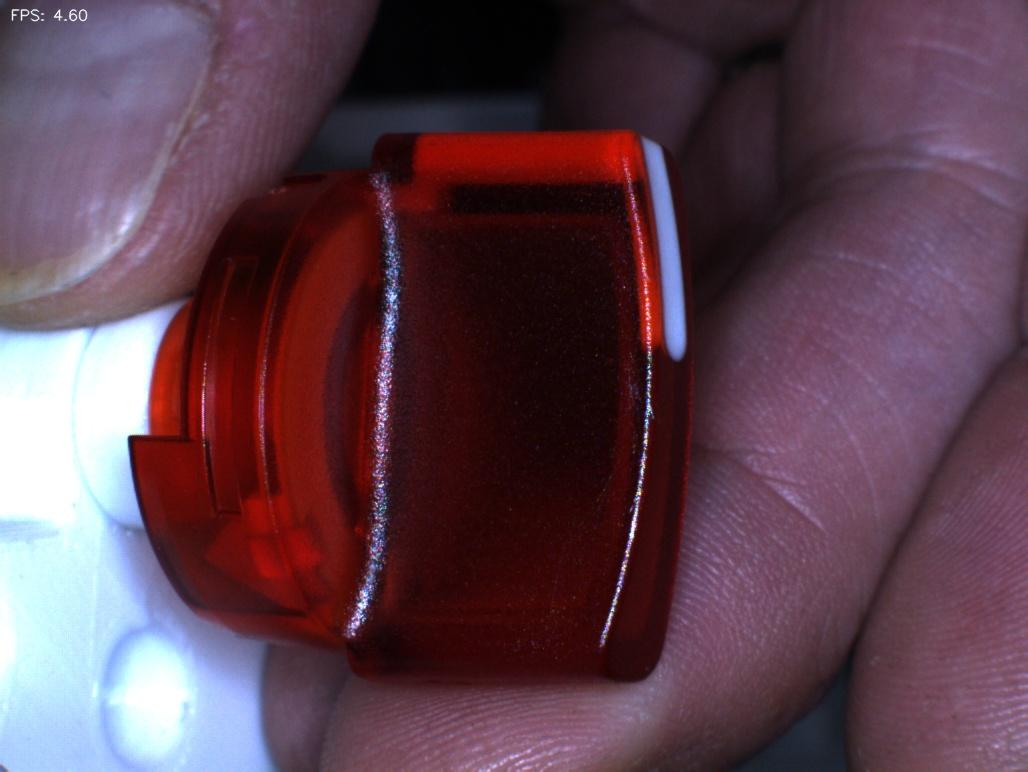Givrage: (596, 332, 672, 461)
